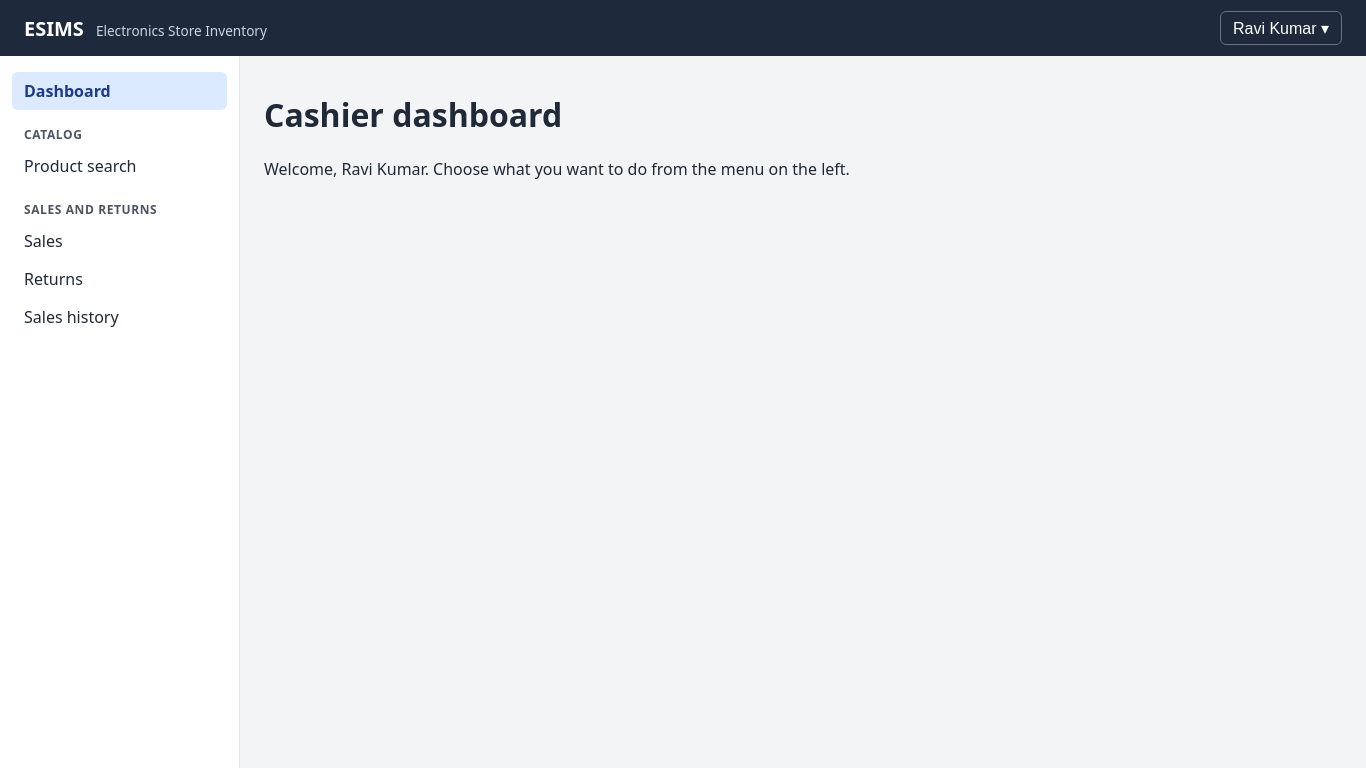
Test case: sign out returns to the login page
Step 1. Click the button "Ravi Kumar ▾" → (1281, 28), box [1220, 11, 1342, 45]
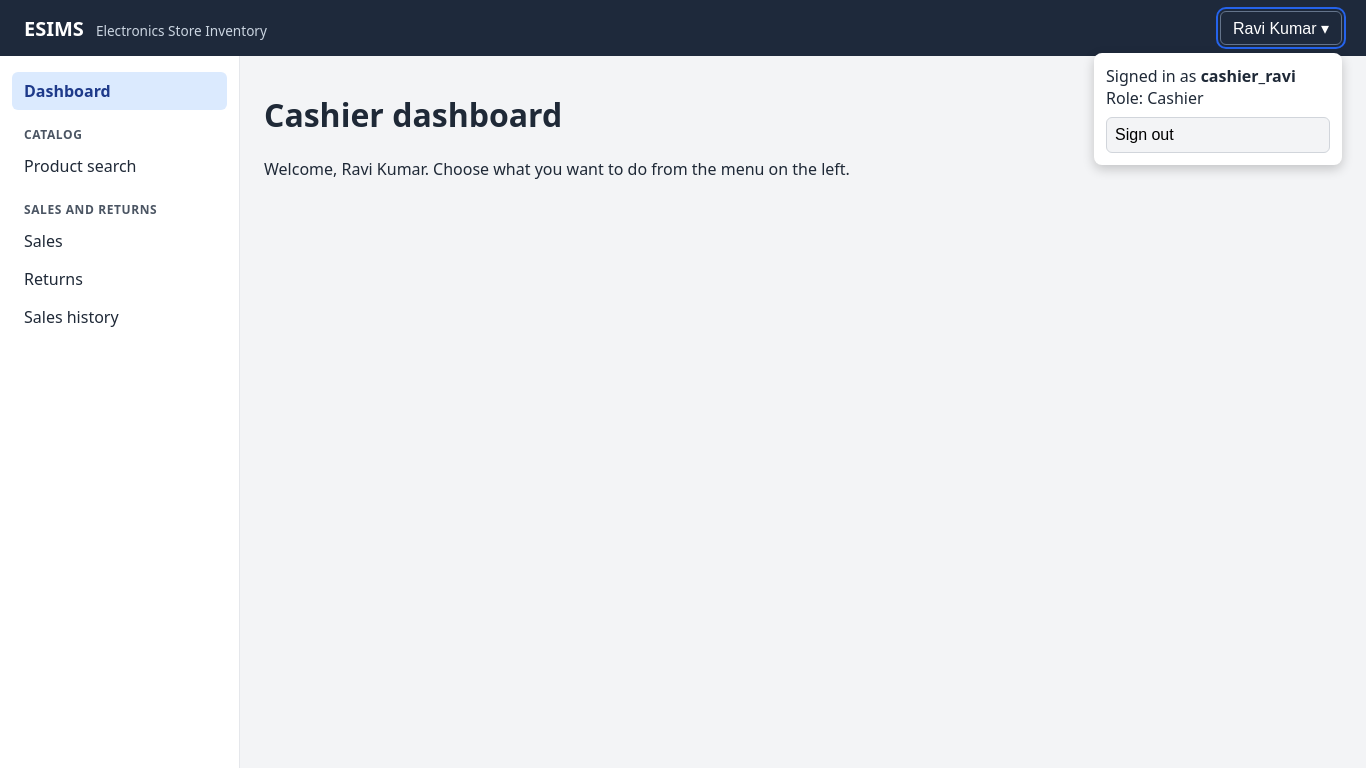
Step 2. Click the menu item "Sign out" → (1218, 135), box [1106, 117, 1330, 153]
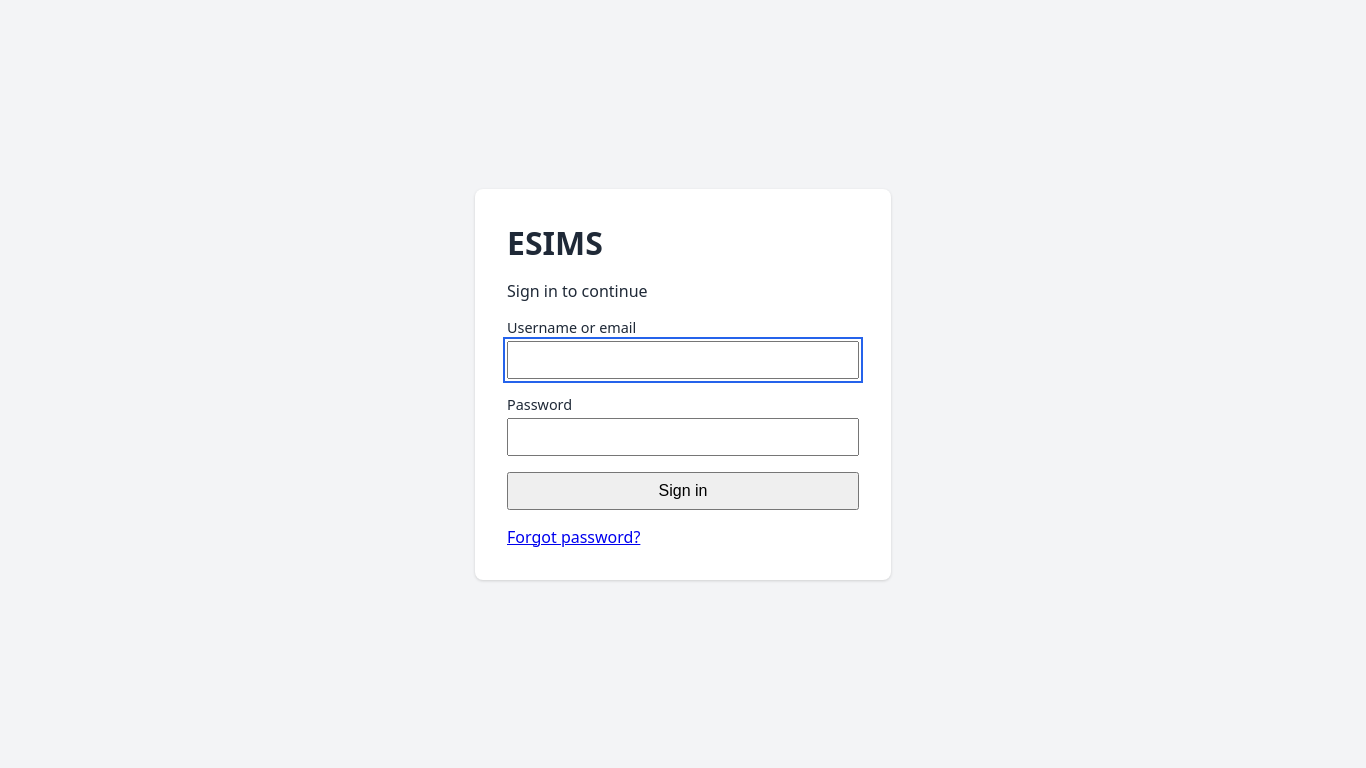
Expected: the button "Sign in" is shown, [507, 472, 859, 510]
